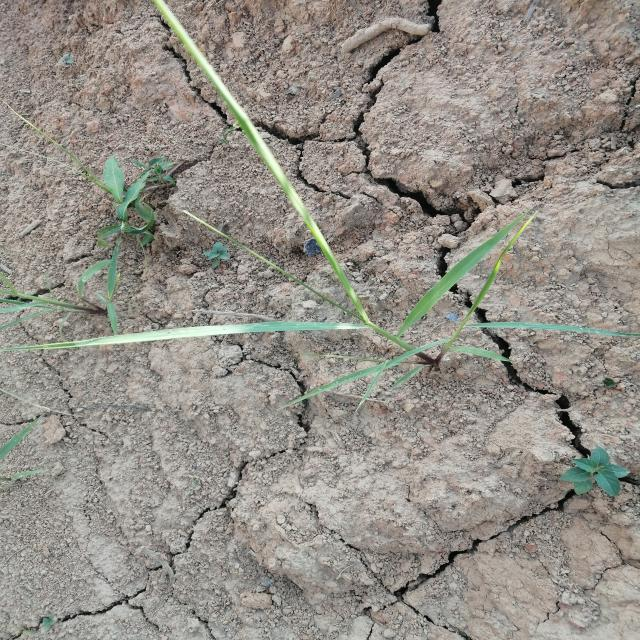green_foxtail: (115, 175, 565, 404)
